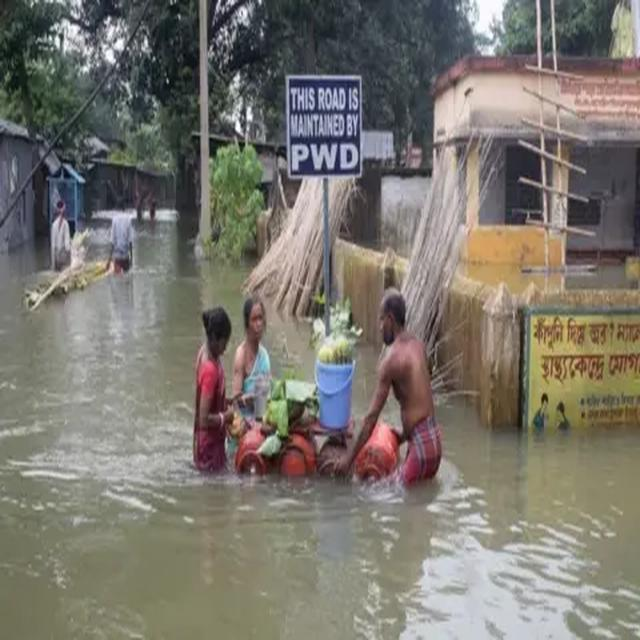Person-RiskLevel3: (357, 288, 459, 503), (190, 304, 237, 481), (226, 292, 283, 428), (97, 192, 146, 276), (45, 193, 75, 274)
